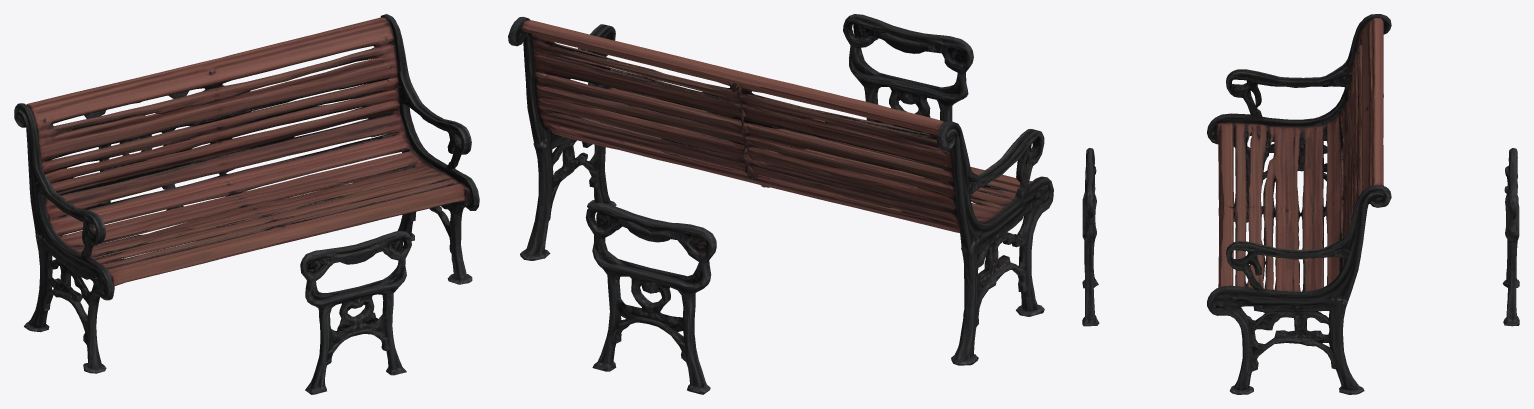
File: modern_bench.glb
3 views of the same model, side by side, from view 1: azimuth 30°, elevation 25°; view 2: azimuth 150°, elevation 25°; view 3: azimuth 270°, elevation 25° (orthographic). The views are drawn at different scales.
Visible parts, largest first — view 1: world; view 2: world; view 3: world.
Boxes of the visible parts, x1,y1,x2,y2 form: world: (14,14,479,394); world: (508,14,1053,394); world: (1082,14,1519,394).
Bounding box in the file's own units: 0.984 × 0.5153 × 1.
1 material, 1 textured.
